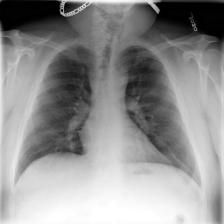normal: (13, 40, 204, 191)
